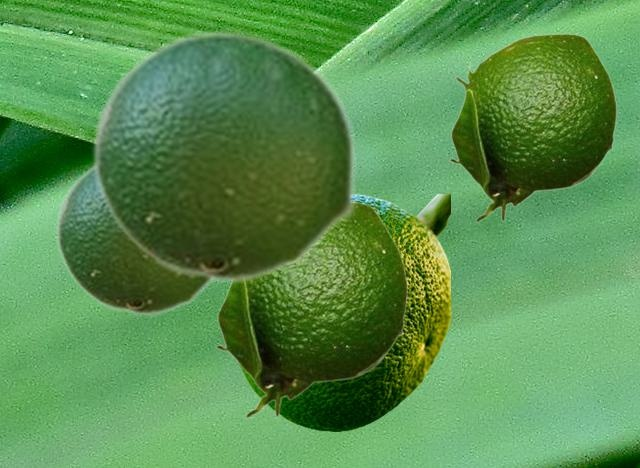dalandan: (91, 29, 357, 284), (236, 194, 449, 430), (214, 201, 407, 418), (448, 33, 616, 222), (55, 163, 212, 316)
